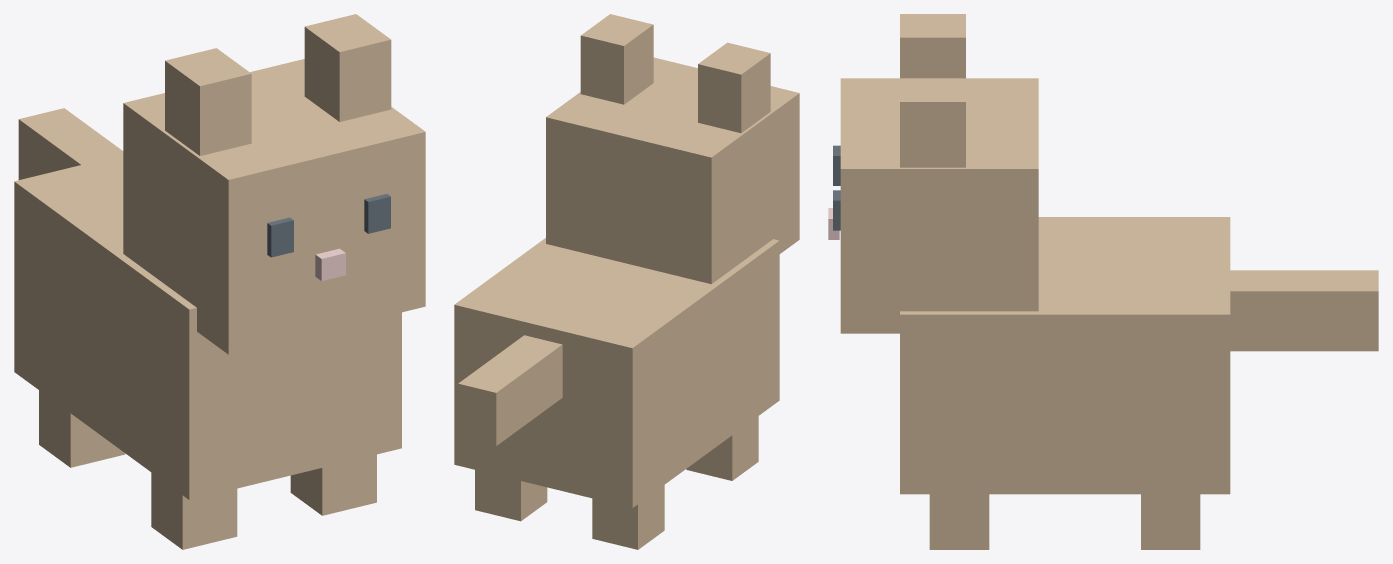
File: simple-cat.glb
3 views of the same model, side by side, from view 1: azimuth 30°, elevation 25°; view 2: azimuth 150°, elevation 25°; view 3: azimuth 270°, elevation 25° (orthographic). The views are drawn at different scales.
Parts seen in each view (by area): view 1: body, head, leg (×3), ear-r, ear-l, tail, eye-l, eye-r, nose; view 2: body, head, leg (×3), tail, ear-r, ear-l; view 3: body, head, tail, leg (×2), ear-r, ear-l.
Part boxes in pixels (x1,y1,x2,y2): body: (14, 155, 401, 499); head: (123, 59, 425, 354); leg (×3): (39, 390, 376, 549); ear-r: (304, 14, 391, 121); ear-l: (165, 48, 251, 155); tail: (18, 108, 123, 179); eye-l: (267, 217, 293, 257); eye-r: (364, 194, 390, 233); nose: (315, 248, 345, 280); body: (454, 238, 779, 507); head: (546, 57, 799, 284); leg (×3): (475, 416, 758, 549); tail: (458, 335, 562, 445); ear-r: (580, 14, 653, 104); ear-l: (698, 42, 770, 133); body: (900, 217, 1230, 494); head: (840, 78, 1038, 333); tail: (1230, 270, 1378, 351); leg (×2): (929, 494, 1200, 549); ear-r: (900, 78, 965, 167); ear-l: (900, 14, 965, 78).
Size of the model in its own units: 0.7 by 1.5 by 1.67.
